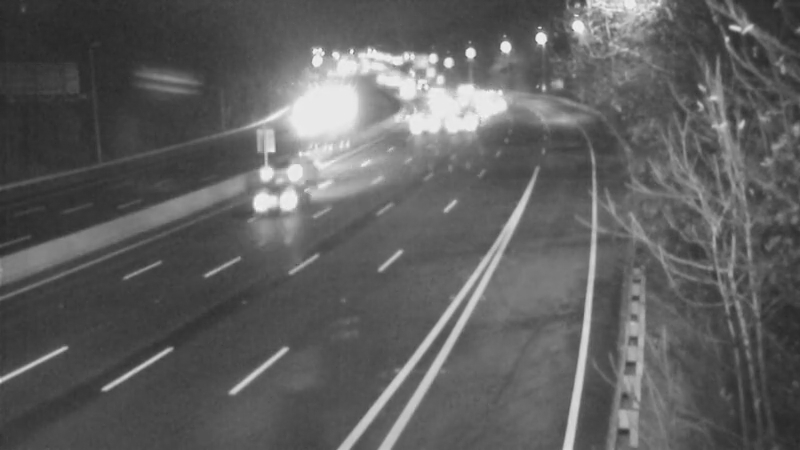vehicle: (245, 125, 325, 205), (246, 159, 326, 239), (459, 77, 509, 127), (444, 92, 494, 142), (399, 95, 449, 145)
